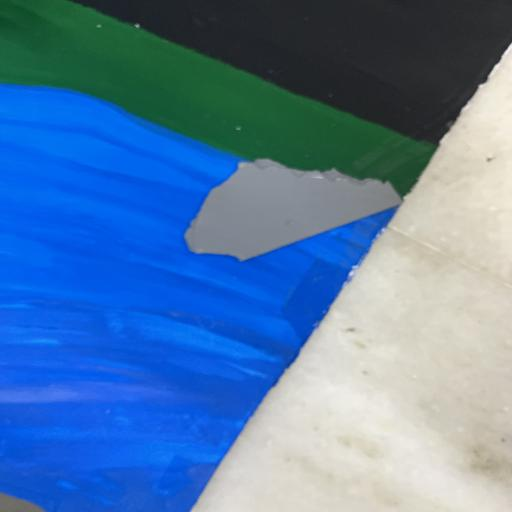trash: (179, 158, 404, 261)
